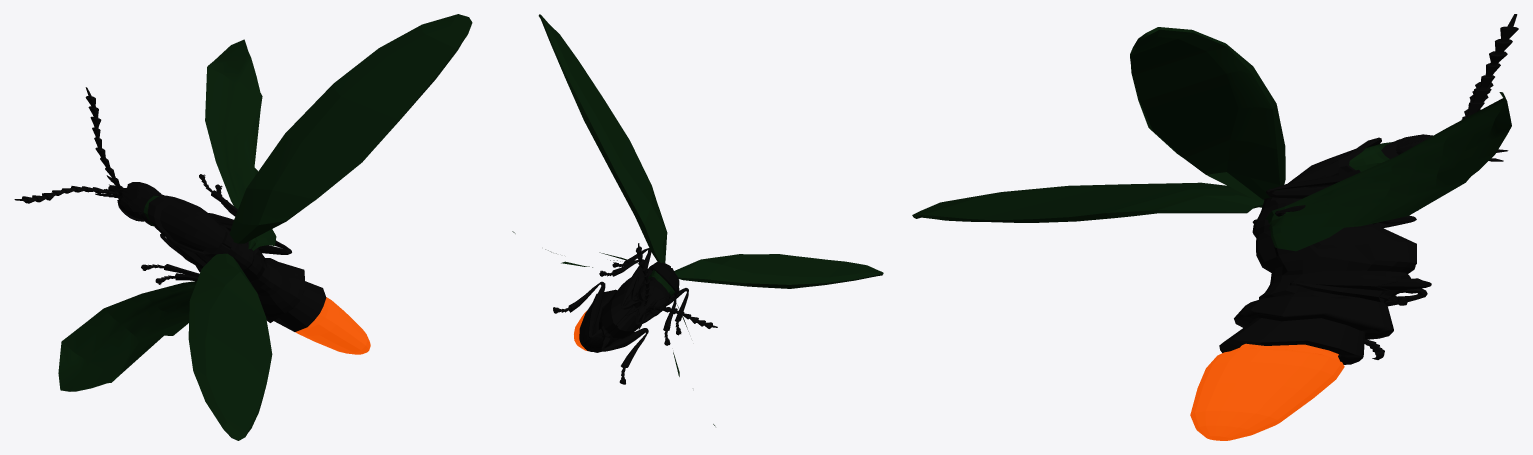
File: Firefly_4-transformed.glb
3 views of the same model, side by side, from view 1: azimuth 30°, elevation 25°; view 2: azimuth 150°, elevation 25°; view 3: azimuth 270°, elevation 25° (orthographic). The views are drawn at different scales.
Visible parts, largest first — view 1: firefly.018, firefly.015, firefly.016, firefly.017, firefly.019; view 2: firefly.015, firefly.018, firefly.016; view 3: firefly.015, firefly.018, firefly.019, firefly.016.
Boxes of the visible parts, x1,y1,x2,y2 form: firefly.018: (229,14,472,243); firefly.015: (14,87,370,354); firefly.016: (188,253,272,440); firefly.017: (58,281,196,391); firefly.019: (205,39,276,250); firefly.015: (553,243,717,384); firefly.018: (538,14,667,262); firefly.016: (674,254,883,288); firefly.015: (1190,14,1518,440); firefly.018: (1130,27,1285,201); firefly.019: (1265,92,1511,251); firefly.016: (912,182,1264,222).
Bounding box in the file's own units: 0.0977 × 0.1015 × 0.1121.
